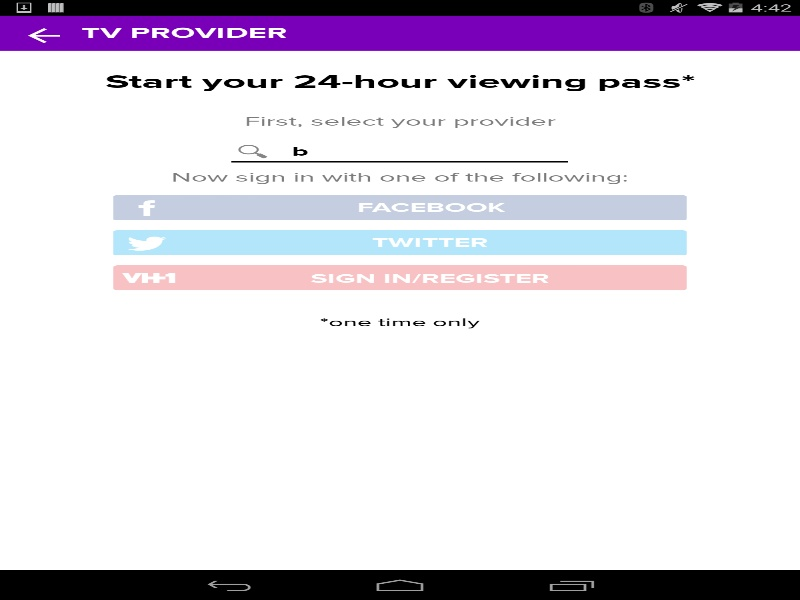Button: (113, 195, 686, 220), (113, 230, 686, 255), (113, 265, 686, 290), (0, 18, 81, 53)
Input: (225, 136, 573, 166)
